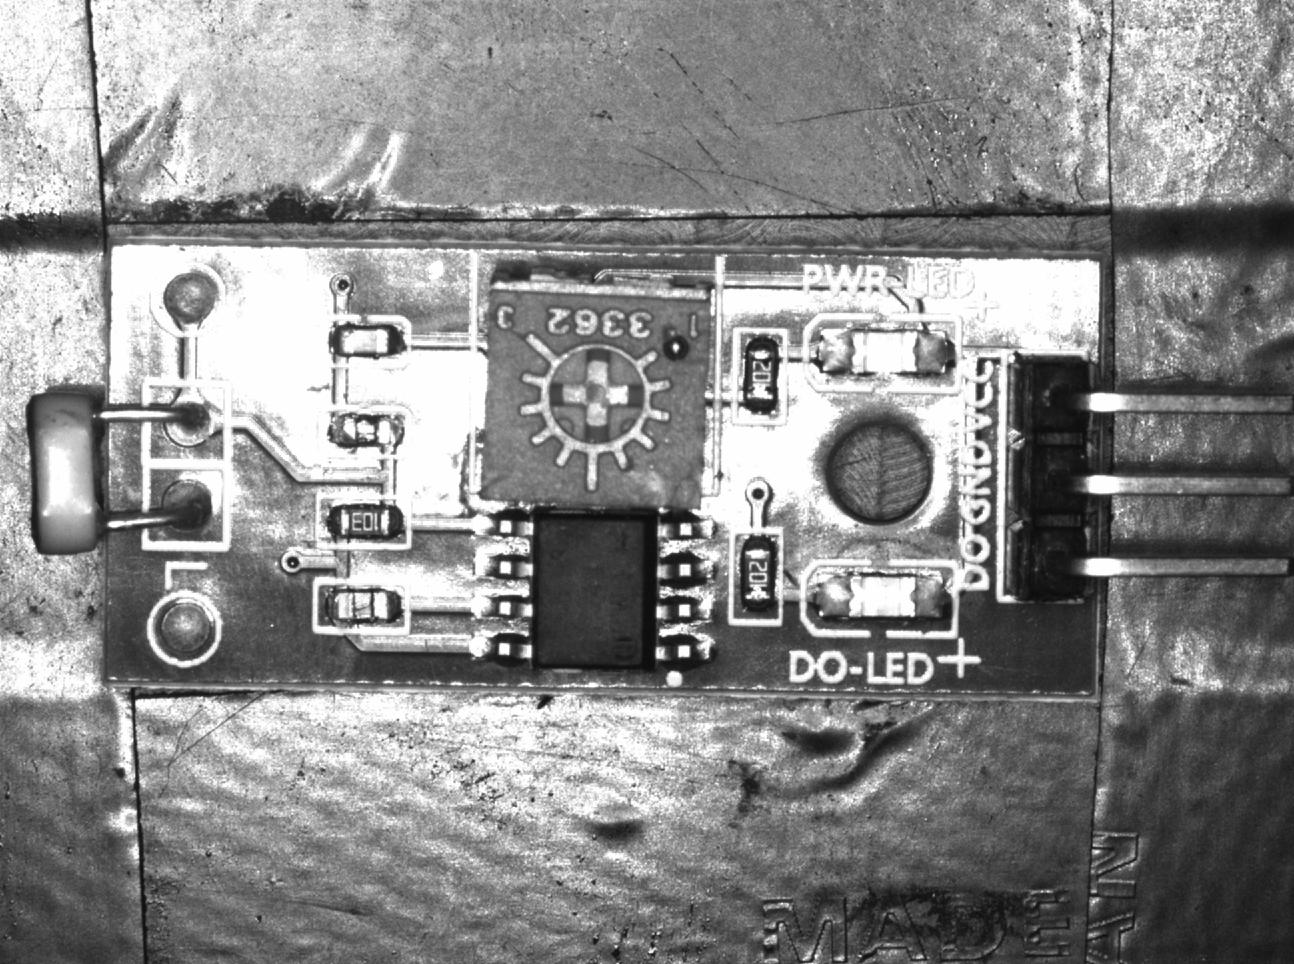miss: (315, 580, 409, 634), (319, 404, 413, 456)
ok: (734, 326, 786, 425), (318, 495, 410, 549), (733, 526, 783, 621), (320, 315, 410, 366)
